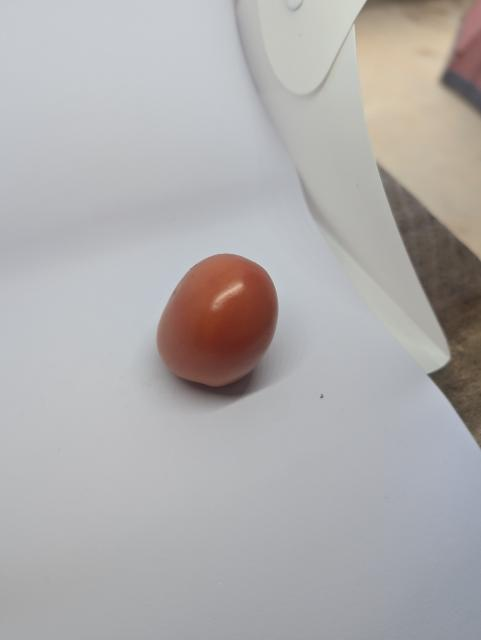red: (156, 252, 282, 391)
